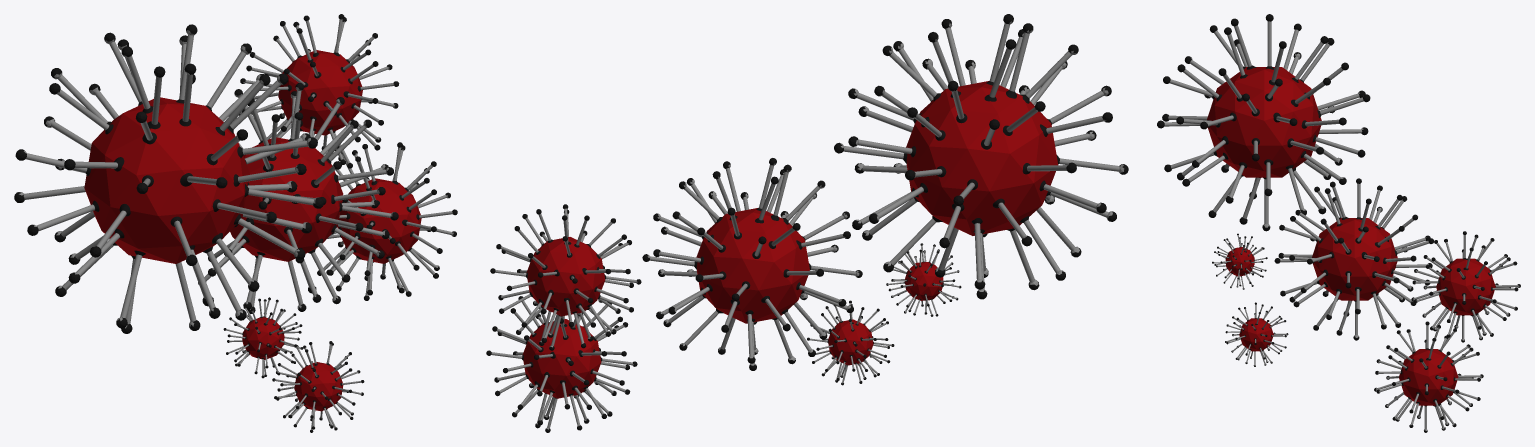
File: virus-transformed.glb
The picture shows the model from 3 angles, left to right: view 1: azimuth 30°, elevation 25°; view 2: azimuth 150°, elevation 25°; view 3: azimuth 270°, elevation 25°; orthographic projection. The views are drawn at different scales.
Parts seen in each view (by area): view 1: Icosphere.002_4, Icosphere_2, Icosphere.003_5, Icosphere.004_6, Icosphere.005_7, Icosphere.001_3; view 2: Icosphere.002_4, Icosphere_2, Icosphere.003_5, Icosphere.004_6, Icosphere.005_7, Icosphere.001_3; view 3: Icosphere.002_4, Icosphere_2, Icosphere.004_6, Icosphere.003_5, Icosphere.005_7, Icosphere.001_3.
Part boxes in pixels (left/top/right/bottom): Icosphere.002_4: left=14, top=24, right=323, bottom=333; Icosphere_2: left=198, top=83, right=398, bottom=313; Icosphere.003_5: left=240, top=14, right=399, bottom=168; Icosphere.004_6: left=317, top=142, right=457, bottom=300; Icosphere.005_7: left=272, top=341, right=364, bottom=432; Icosphere.001_3: left=223, top=297, right=303, bottom=378; Icosphere.002_4: left=834, top=14, right=1128, bottom=299; Icosphere_2: left=642, top=158, right=862, bottom=370; Icosphere.003_5: left=490, top=204, right=641, bottom=350; Icosphere.004_6: left=486, top=296, right=637, bottom=432; Icosphere.005_7: left=807, top=300, right=894, bottom=385; Icosphere.001_3: left=886, top=243, right=961, bottom=316; Icosphere.002_4: left=1157, top=14, right=1370, bottom=231; Icosphere_2: left=1274, top=178, right=1434, bottom=340; Icosphere.004_6: left=1374, top=321, right=1483, bottom=432; Icosphere.003_5: left=1411, top=231, right=1520, bottom=342; Icosphere.005_7: left=1225, top=302, right=1288, bottom=366; Icosphere.001_3: left=1212, top=233, right=1267, bottom=289.
Size of the model in its own units: 9.83 by 7.33 by 8.37.
